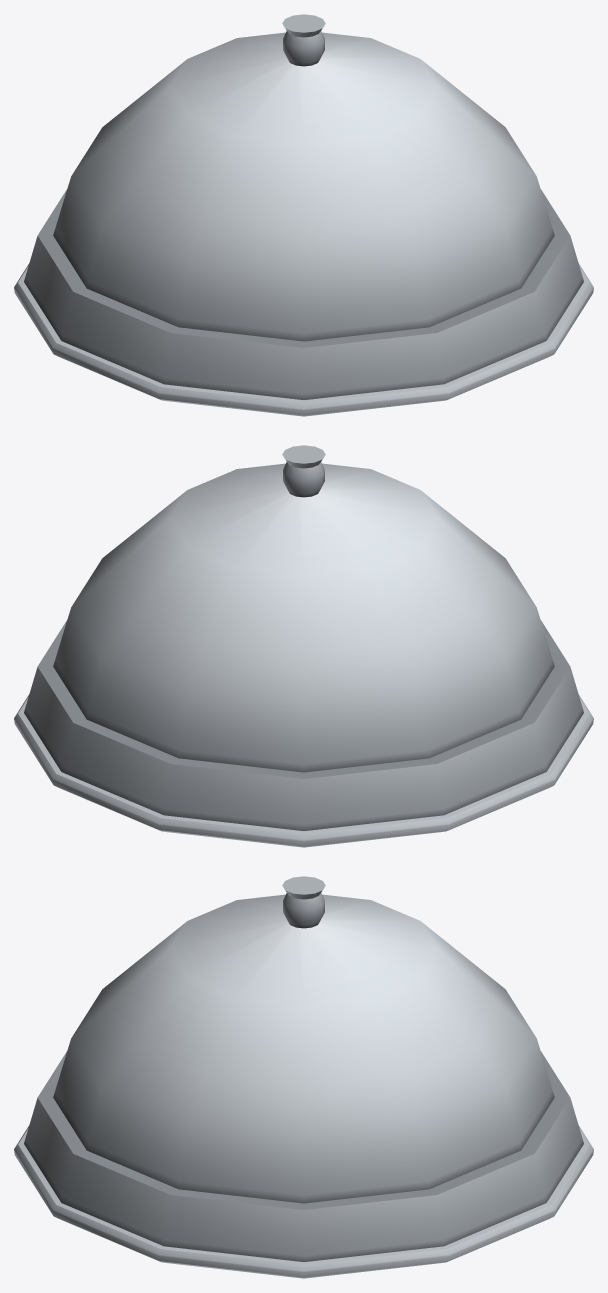
The model's file is ceiling light.fbx.
3 views of the same model, one above another, from view 1: azimuth 30°, elevation 25°; view 2: azimuth 150°, elevation 25°; view 3: azimuth 270°, elevation 25° (orthographic).
Visible parts, largest first — view 1: lightroom; view 2: lightroom; view 3: lightroom.
Part boxes in pixels (x1,y1,x2,y2): lightroom: [14, 14, 593, 416]; lightroom: [14, 445, 593, 847]; lightroom: [14, 876, 593, 1278].
Size of the model in its own units: 216 by 128 by 216.
